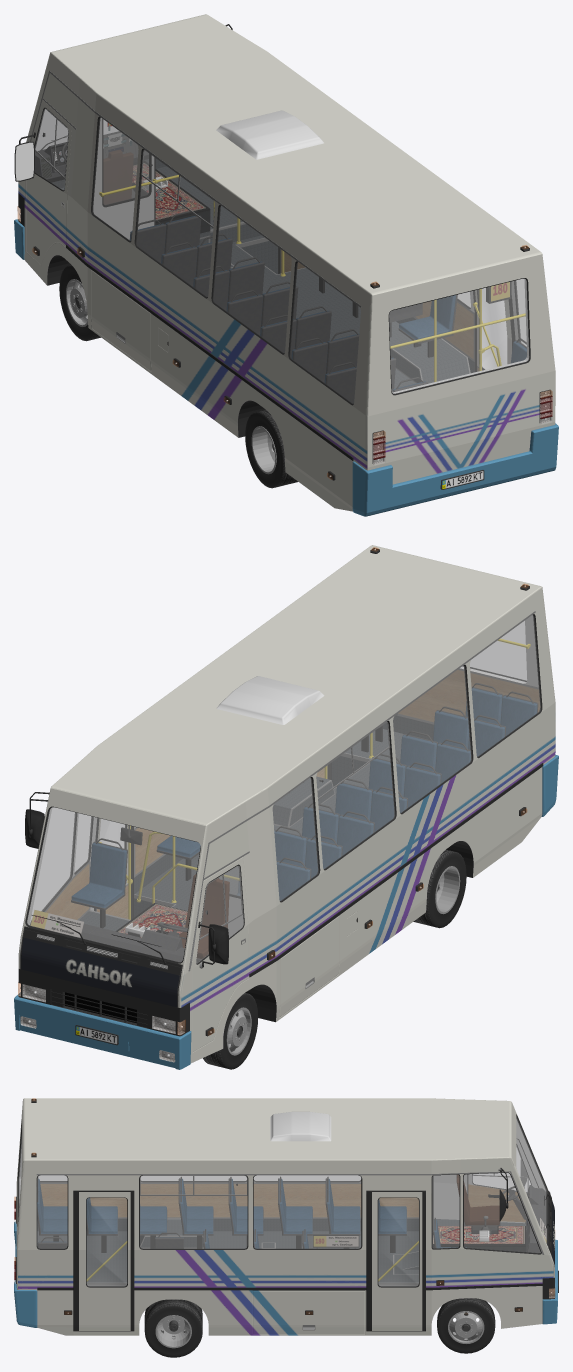
File: Xebus.fbx
3 renders of one model, top to bottom at view 1: azimuth 30°, elevation 25°; view 2: azimuth 150°, elevation 25°; view 3: azimuth 270°, elevation 25°, orthographic. The views are drawn at different scales.
Parts seen in each view (by area): view 1: node_b6ff33ed_80d2_485a_9e40_612f84868642_mesh0, node_22bfe2ca_4ab2_48c7_8ace_944947828cbf_mesh0, node_dda33c2a_771e_4cfb_b367_3e28418064c1_mesh0, node_266f4c9d_e37c_4781_93b4_b86cd6ff186f_mesh0, node_8264072f_6198_44c1_970f_4e9377cd3f4b_mesh0, node_acbfece2_9993_4ee7_8bad_3d515587282e_mesh0, node_3379dd3b_c5be_4239_98de_63f48b70aac3_mesh0, node_eafea80a_4fd6_4e12_b6a3_8841d67c1cb6_mesh0, node_6aa33ce9_0340_4230_933e_2c0e8edbd7d4_mesh0, node_df39bb66_e126_43b7_b1af_8c2aeb79f2b0_mesh0, node_cba51e38_47c0_47a3_9e70_9c1c67015943_mesh0, node_9a341ae5_7f28_4582_8ecb_be16ca7714a8_mesh0 (+15 smaller); view 2: node_b6ff33ed_80d2_485a_9e40_612f84868642_mesh0, node_22bfe2ca_4ab2_48c7_8ace_944947828cbf_mesh0, node_eafea80a_4fd6_4e12_b6a3_8841d67c1cb6_mesh0, node_df39bb66_e126_43b7_b1af_8c2aeb79f2b0_mesh0, node_266f4c9d_e37c_4781_93b4_b86cd6ff186f_mesh0, node_e9449c53_ec16_4b2b_8cd6_4e3c1d500796_mesh0, node_acbfece2_9993_4ee7_8bad_3d515587282e_mesh0, node_8264072f_6198_44c1_970f_4e9377cd3f4b_mesh0, node_dda33c2a_771e_4cfb_b367_3e28418064c1_mesh0, node_3379dd3b_c5be_4239_98de_63f48b70aac3_mesh0, node_73d4a248_1566_4aea_9f42_4742699a4c79_mesh0, node_9a341ae5_7f28_4582_8ecb_be16ca7714a8_mesh0 (+16 smaller); view 3: node_b6ff33ed_80d2_485a_9e40_612f84868642_mesh0, node_22bfe2ca_4ab2_48c7_8ace_944947828cbf_mesh0, node_eafea80a_4fd6_4e12_b6a3_8841d67c1cb6_mesh0, node_e9449c53_ec16_4b2b_8cd6_4e3c1d500796_mesh0, node_266f4c9d_e37c_4781_93b4_b86cd6ff186f_mesh0, node_d1191538_06e6_473d_9dcf_f4aef21b36d3_mesh0, node_459877ad_8a30_4004_bf68_9181023fe1cf_mesh0, node_06769c60_e0be_40a3_82ae_68c7247218bf_mesh0, node_a06cc316_73dd_4cd8_856a_6324f3d62bc8_mesh0, node_acbfece2_9993_4ee7_8bad_3d515587282e_mesh0, node_dda33c2a_771e_4cfb_b367_3e28418064c1_mesh0, node_3379dd3b_c5be_4239_98de_63f48b70aac3_mesh0 (+21 smaller).
Part boxes in pixels (x1=…): node_b6ff33ed_80d2_485a_9e40_612f84868642_mesh0: x1=14, y1=14, x2=558, y2=516; node_22bfe2ca_4ab2_48c7_8ace_944947828cbf_mesh0: x1=35, y1=109, x2=528, y2=403; node_dda33c2a_771e_4cfb_b367_3e28418064c1_mesh0: x1=34, y1=131, x2=526, y2=403; node_266f4c9d_e37c_4781_93b4_b86cd6ff186f_mesh0: x1=52, y1=158, x2=474, y2=388; node_8264072f_6198_44c1_970f_4e9377cd3f4b_mesh0: x1=19, y1=110, x2=546, y2=476; node_acbfece2_9993_4ee7_8bad_3d515587282e_mesh0: x1=34, y1=107, x2=530, y2=405; node_3379dd3b_c5be_4239_98de_63f48b70aac3_mesh0: x1=93, y1=118, x2=528, y2=393; node_eafea80a_4fd6_4e12_b6a3_8841d67c1cb6_mesh0: x1=129, y1=216, x2=526, y2=391; node_6aa33ce9_0340_4230_933e_2c0e8edbd7d4_mesh0: x1=103, y1=120, x2=148, y2=204; node_df39bb66_e126_43b7_b1af_8c2aeb79f2b0_mesh0: x1=18, y1=24, x2=550, y2=480; node_cba51e38_47c0_47a3_9e70_9c1c67015943_mesh0: x1=99, y1=175, x2=525, y2=381; node_9a341ae5_7f28_4582_8ecb_be16ca7714a8_mesh0: x1=66, y1=244, x2=474, y2=460; node_b6ff33ed_80d2_485a_9e40_612f84868642_mesh0: x1=14, y1=545, x2=558, y2=1069; node_22bfe2ca_4ab2_48c7_8ace_944947828cbf_mesh0: x1=27, y1=615, x2=540, y2=963; node_eafea80a_4fd6_4e12_b6a3_8841d67c1cb6_mesh0: x1=71, y1=688, x2=537, y2=907; node_df39bb66_e126_43b7_b1af_8c2aeb79f2b0_mesh0: x1=18, y1=548, x2=529, y2=1036; node_266f4c9d_e37c_4781_93b4_b86cd6ff186f_mesh0: x1=79, y1=715, x2=434, y2=930; node_e9449c53_ec16_4b2b_8cd6_4e3c1d500796_mesh0: x1=46, y1=670, x2=540, y2=919; node_acbfece2_9993_4ee7_8bad_3d515587282e_mesh0: x1=25, y1=614, x2=542, y2=964; node_8264072f_6198_44c1_970f_4e9377cd3f4b_mesh0: x1=20, y1=548, x2=525, y2=1056; node_dda33c2a_771e_4cfb_b367_3e28418064c1_mesh0: x1=30, y1=687, x2=538, y2=962; node_3379dd3b_c5be_4239_98de_63f48b70aac3_mesh0: x1=27, y1=615, x2=538, y2=937; node_73d4a248_1566_4aea_9f42_4742699a4c79_mesh0: x1=179, y1=874, x2=229, y2=958; node_9a341ae5_7f28_4582_8ecb_be16ca7714a8_mesh0: x1=133, y1=763, x2=543, y2=977; node_b6ff33ed_80d2_485a_9e40_612f84868642_mesh0: x1=14, y1=1098, x2=557, y2=1335; node_22bfe2ca_4ab2_48c7_8ace_944947828cbf_mesh0: x1=18, y1=1117, x2=546, y2=1252; node_eafea80a_4fd6_4e12_b6a3_8841d67c1cb6_mesh0: x1=37, y1=1179, x2=466, y2=1248; node_e9449c53_ec16_4b2b_8cd6_4e3c1d500796_mesh0: x1=40, y1=1184, x2=525, y2=1222; node_266f4c9d_e37c_4781_93b4_b86cd6ff186f_mesh0: x1=37, y1=1218, x2=525, y2=1286; node_d1191538_06e6_473d_9dcf_f4aef21b36d3_mesh0: x1=378, y1=1198, x2=418, y2=1286; node_459877ad_8a30_4004_bf68_9181023fe1cf_mesh0: x1=87, y1=1198, x2=126, y2=1286; node_06769c60_e0be_40a3_82ae_68c7247218bf_mesh0: x1=79, y1=1192, x2=130, y2=1330; node_a06cc316_73dd_4cd8_856a_6324f3d62bc8_mesh0: x1=372, y1=1192, x2=422, y2=1330; node_acbfece2_9993_4ee7_8bad_3d515587282e_mesh0: x1=17, y1=1114, x2=548, y2=1254; node_dda33c2a_771e_4cfb_b367_3e28418064c1_mesh0: x1=37, y1=1178, x2=545, y2=1252; node_3379dd3b_c5be_4239_98de_63f48b70aac3_mesh0: x1=19, y1=1119, x2=545, y2=1223.
Size of the model in its own units: 517 by 618 by 1509.
75 materials, 31 textured.
